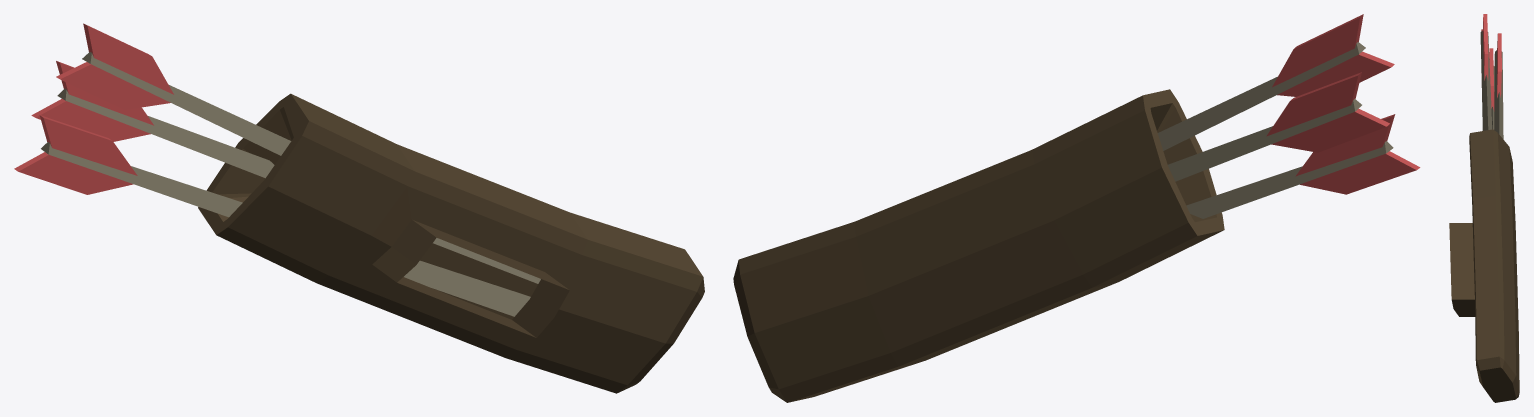
Rendered from quiver.fbx.
The picture shows the model from 3 angles, left to right: view 1: azimuth 30°, elevation 25°; view 2: azimuth 150°, elevation 25°; view 3: azimuth 270°, elevation 25°; orthographic projection. The views are drawn at different scales.
Parts seen in each view (by area): view 1: polySurface40, Arrow_Reload, polySurface37, polySurface36, polySurface39, polySurface38; view 2: polySurface40, Arrow_Reload, polySurface38, polySurface36, polySurface37, polySurface39; view 3: polySurface40, Arrow_Reload, polySurface39, polySurface38, polySurface36, polySurface37.
Part boxes in pixels (x1,y1,x2,y2): polySurface40: [198, 93, 704, 393]; Arrow_Reload: [56, 23, 540, 280]; polySurface37: [41, 142, 530, 316]; polySurface36: [14, 115, 137, 194]; polySurface39: [57, 88, 539, 283]; polySurface38: [31, 61, 153, 141]; polySurface40: [733, 89, 1224, 402]; Arrow_Reload: [1157, 14, 1394, 150]; polySurface38: [1266, 72, 1389, 152]; polySurface36: [1295, 114, 1420, 194]; polySurface37: [1186, 141, 1393, 218]; polySurface39: [1168, 99, 1361, 181]; polySurface40: [1449, 129, 1519, 402]; Arrow_Reload: [1480, 14, 1492, 130]; polySurface39: [1494, 50, 1503, 139]; polySurface38: [1496, 33, 1501, 97]; polySurface36: [1489, 48, 1494, 111]; polySurface37: [1491, 66, 1494, 129].
Size of the model in its own units: 77.1 by 55.02 by 13.77.
